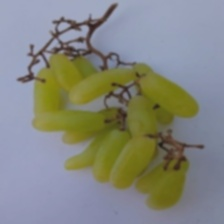grapes: (9, 45, 180, 202)
